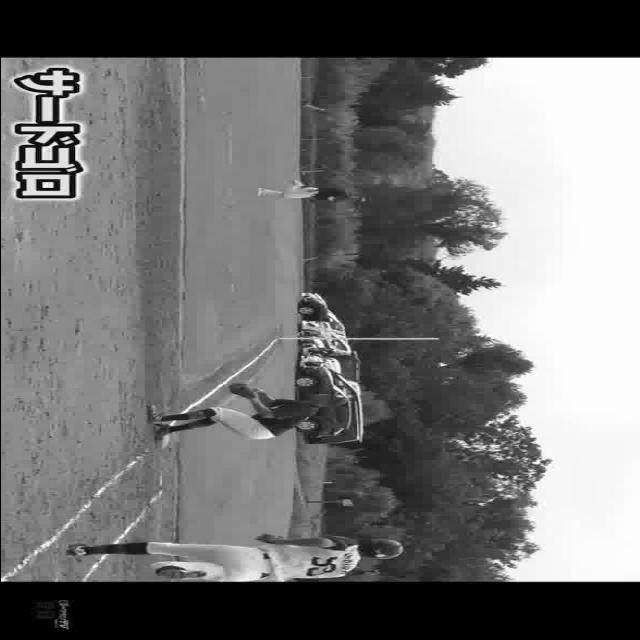base: (153, 418, 171, 453)
baseball_glove: (223, 382, 265, 400)
shoe: (145, 418, 173, 438), (144, 404, 165, 426), (67, 540, 89, 560)
